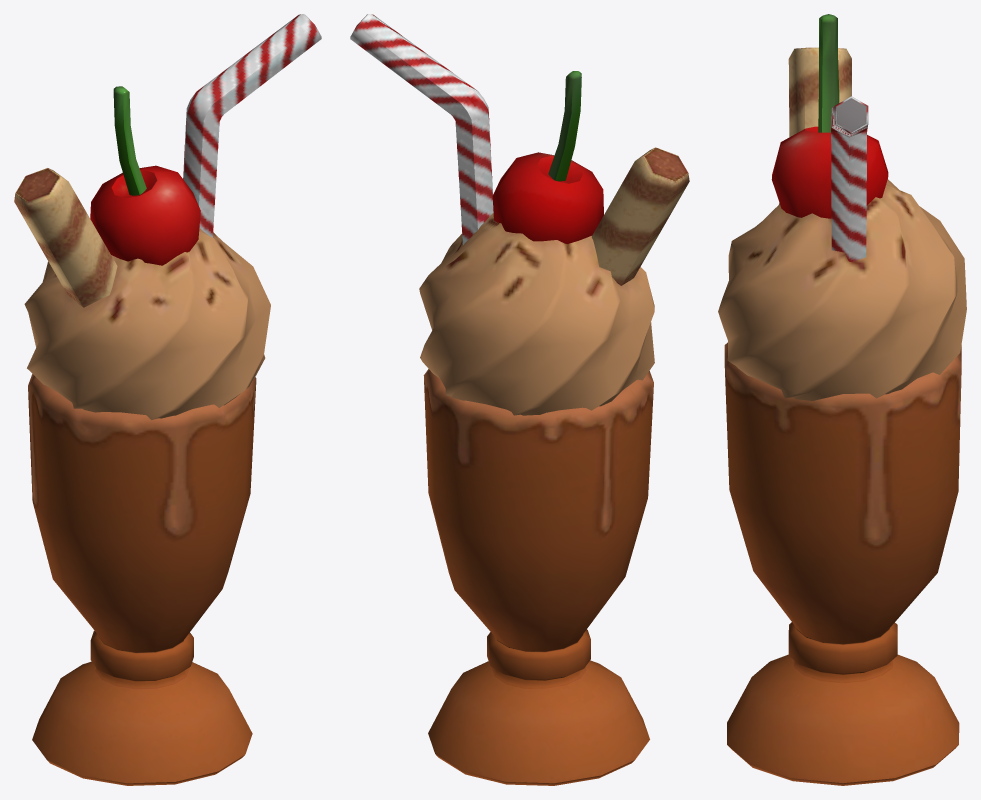
File: 0-milkshake_brown.fbx
3 renders of one model, left to right at view 1: azimuth 30°, elevation 25°; view 2: azimuth 150°, elevation 25°; view 3: azimuth 270°, elevation 25°, orthographic. The views are drawn at different scales.
Parts seen in each view (by area): view 1: 0-milkshake_brown; view 2: 0-milkshake_brown; view 3: 0-milkshake_brown.
Boxes of the visible parts, x1,y1,x2,y2 form: 0-milkshake_brown: (14, 14, 321, 785); 0-milkshake_brown: (350, 14, 689, 785); 0-milkshake_brown: (718, 14, 966, 785).
Bounding box in the file's own units: 43.2 × 90.72 × 28.13.
